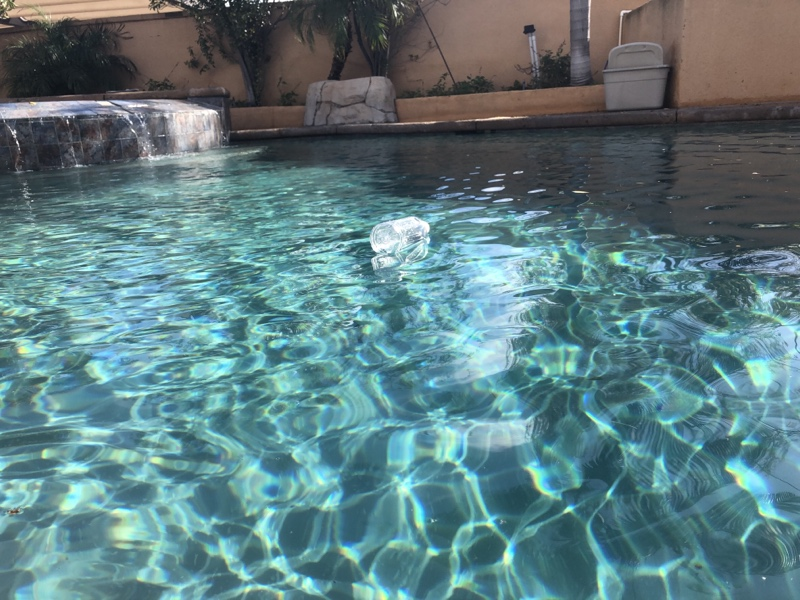Plastic Bottle: (365, 214, 432, 257)
